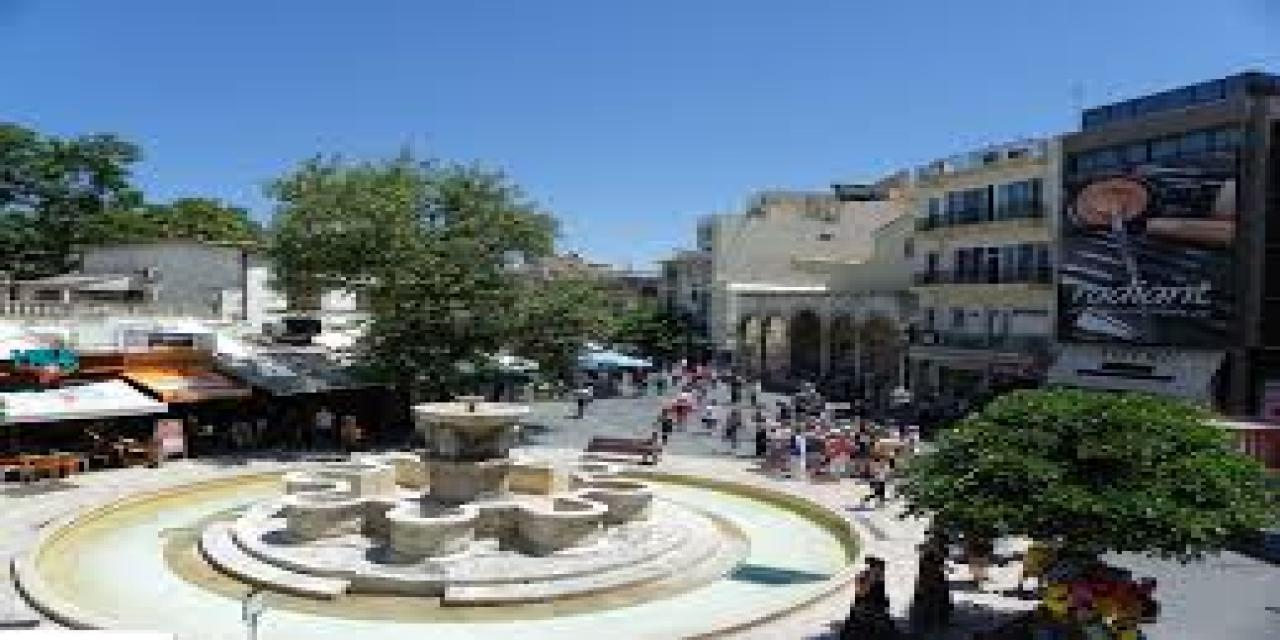Liontaria: (286, 399, 655, 562)
